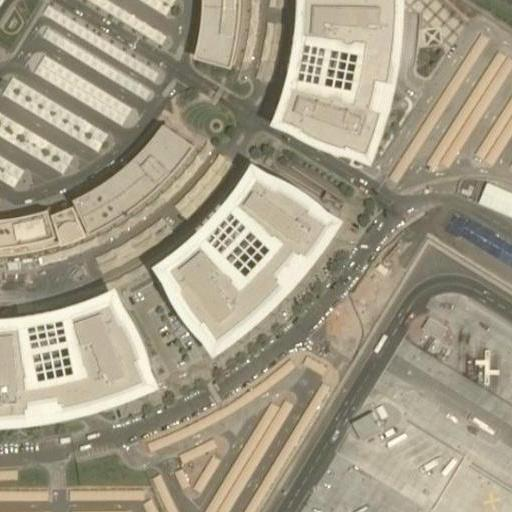Aircraft: (308, 492, 381, 512)
